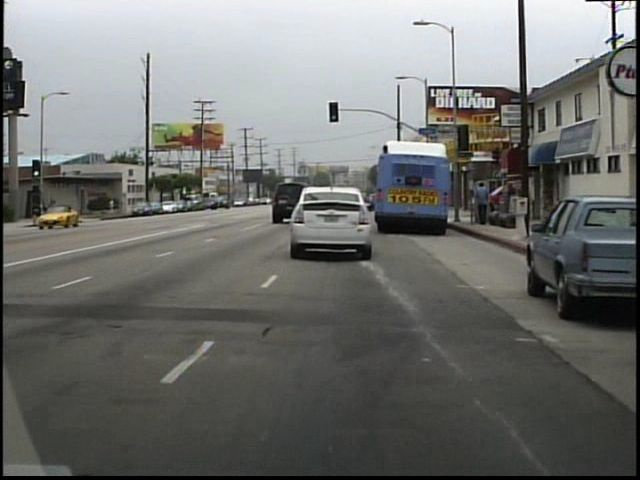person: (470, 180, 490, 229), (108, 194, 118, 217)
